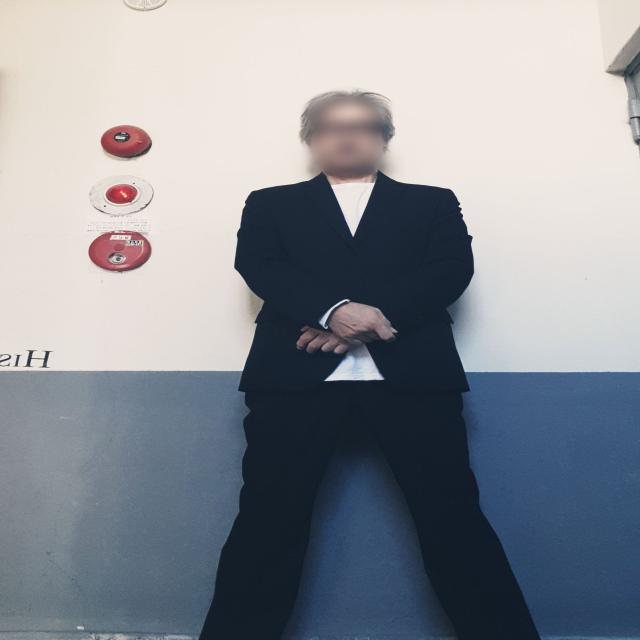blazer: (234, 172, 478, 398)
slacks: (197, 376, 543, 640)
